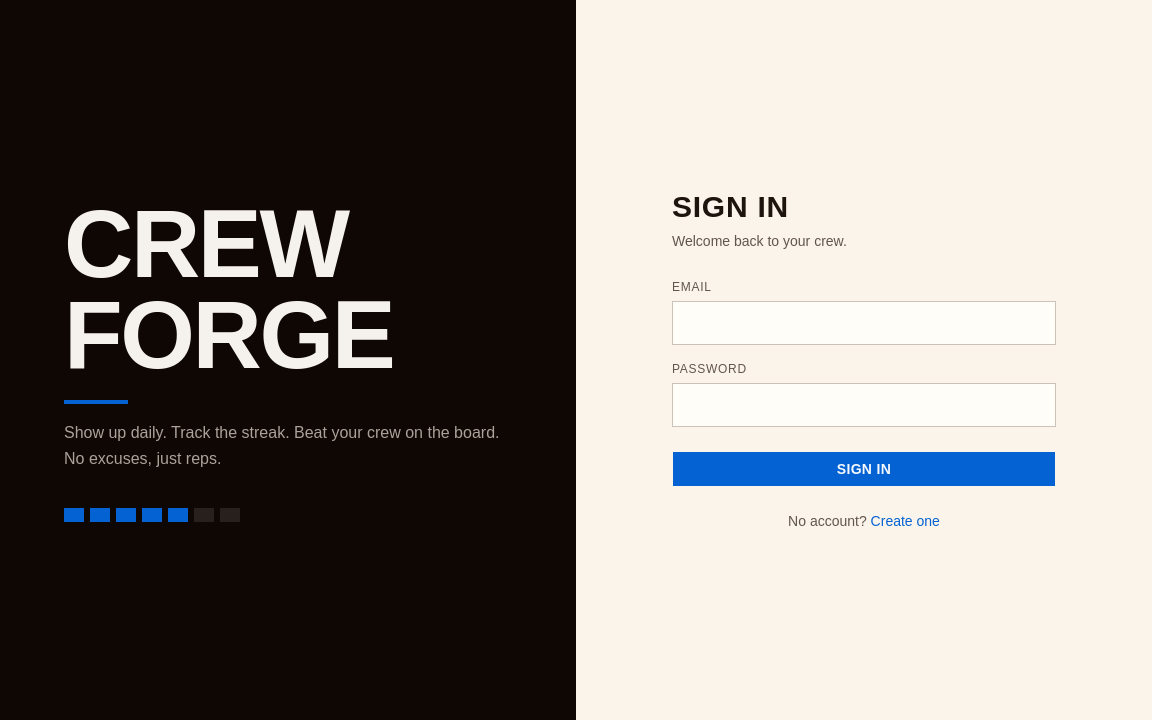
Test case: Login page › renders the API error message when sign-in is rejected
This screenshot has width=1152, height=720.
Type "ada@example.com" into the field labelled "Email" at point(864, 323), box 672,301 -> 1056,345
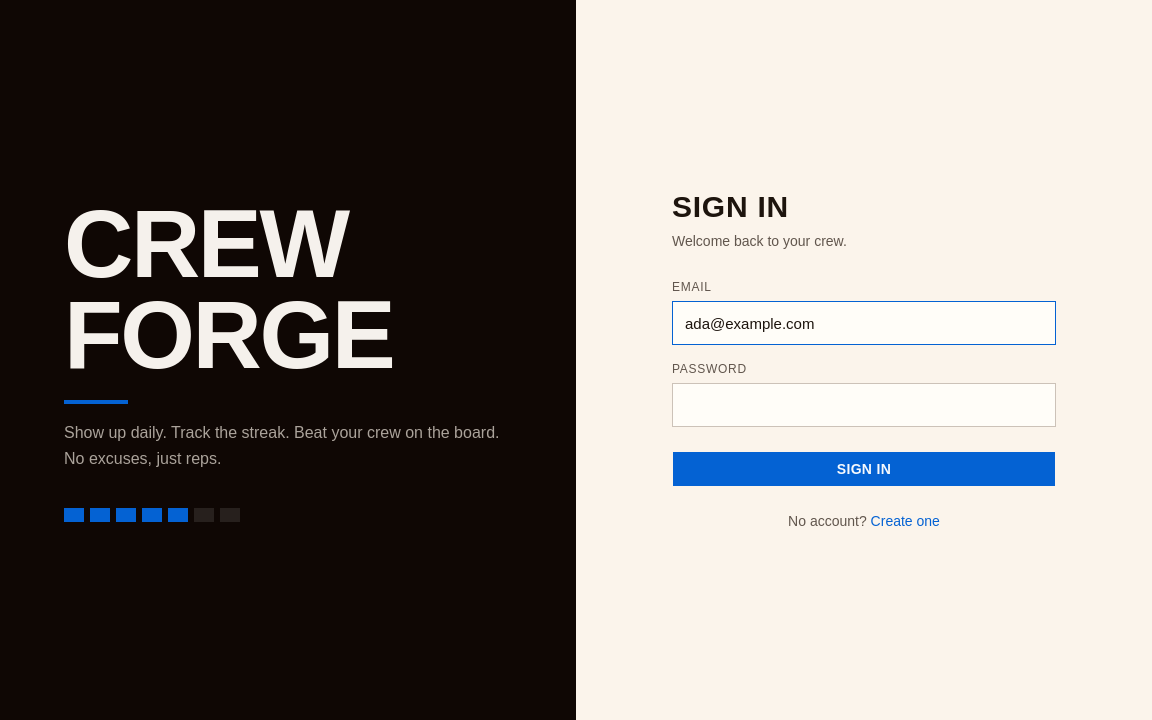
Type "hunter2" into the password field labelled "Password" at point(864, 405), box 672,383 -> 1056,427
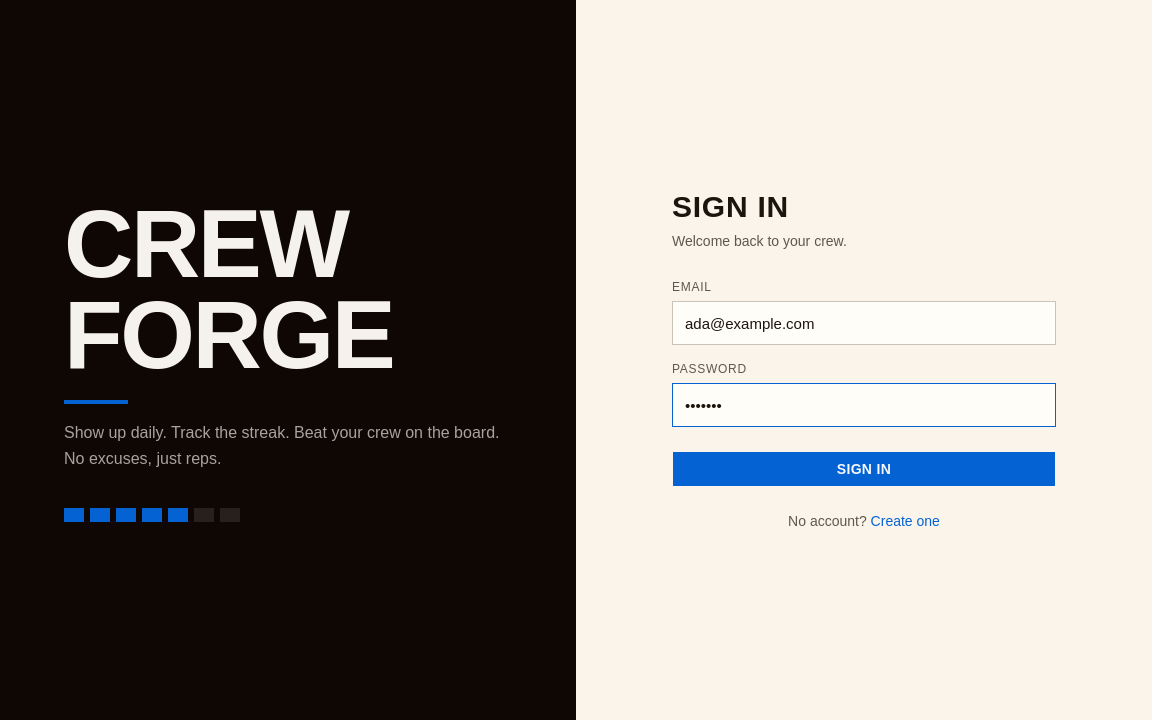
Click the button "Sign in" at point(864, 469), box 672,451 -> 1056,487
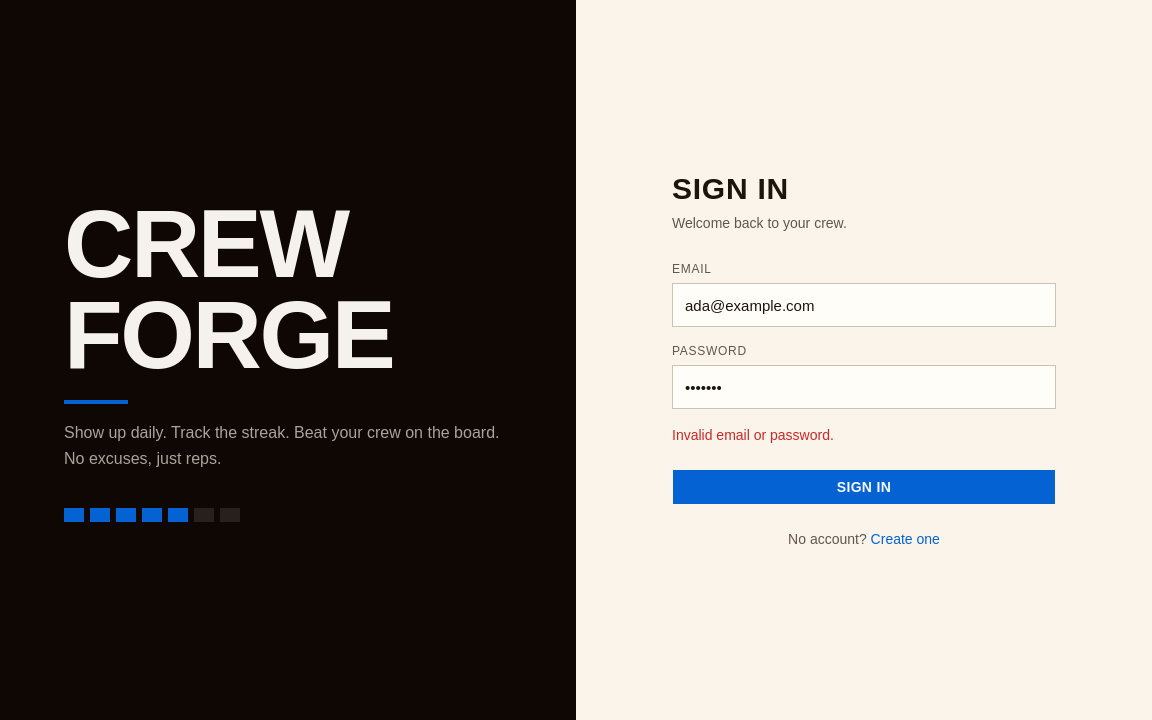
expect the text "Invalid email or password." is shown: met, box 672,427 -> 834,443
